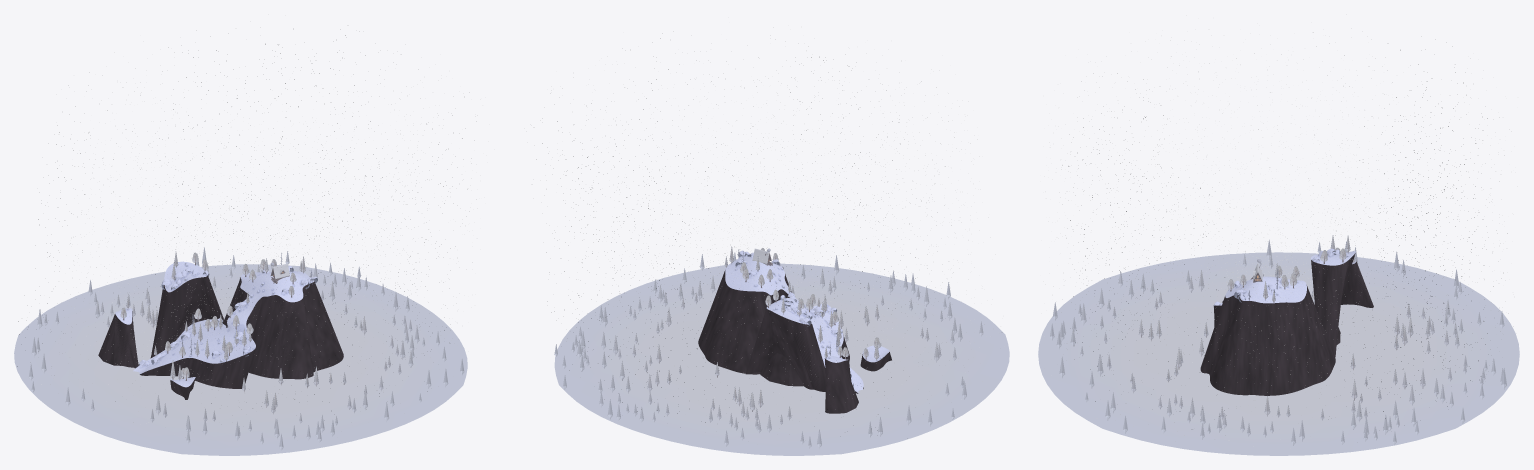
File: hillCabin22_compressed.glb
3 views of the same model, side by side, from view 1: azimuth 30°, elevation 25°; view 2: azimuth 150°, elevation 25°; view 3: azimuth 270°, elevation 25° (orthographic). The views are drawn at different scales.
Bounding box in the file's own units: 114 × 65.61 × 106.
4 materials, 2 textured.
